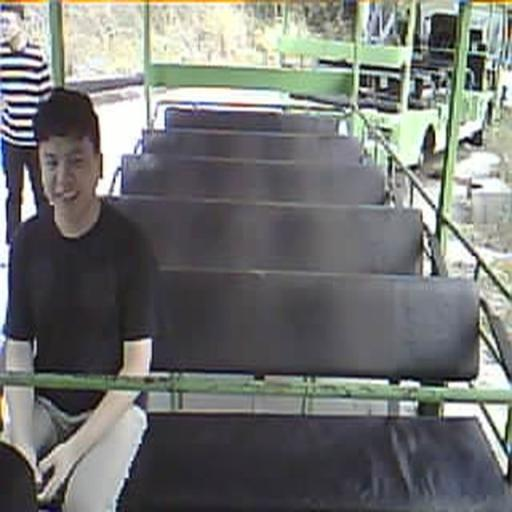persona: (1, 86, 164, 510)
